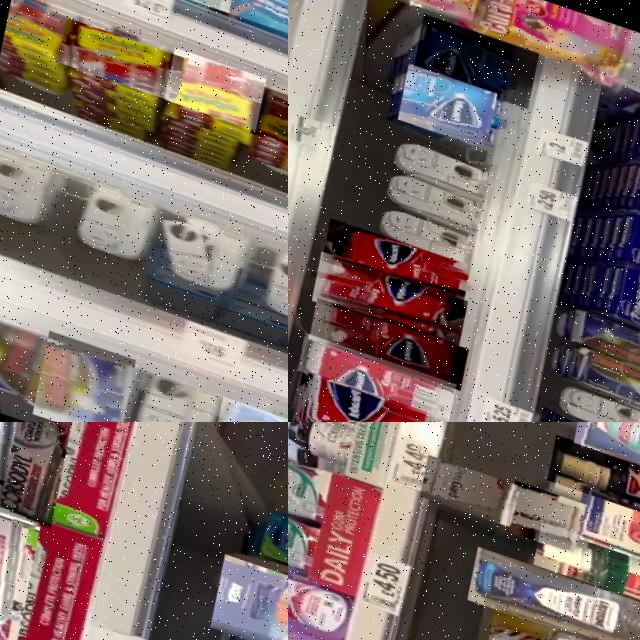Mouthwash: (460, 536, 640, 640), (478, 593, 640, 640)
Other: (305, 245, 466, 344), (303, 292, 466, 384), (291, 327, 453, 415), (316, 212, 469, 301), (409, 5, 540, 101), (527, 509, 640, 612), (288, 516, 379, 640), (53, 14, 184, 98), (22, 326, 133, 422), (541, 422, 640, 527), (288, 363, 446, 422), (393, 55, 498, 142), (159, 41, 266, 125), (203, 542, 288, 640), (288, 422, 364, 531), (288, 469, 359, 585), (567, 470, 640, 573), (415, 445, 517, 518), (500, 469, 583, 543), (288, 422, 386, 468), (568, 422, 640, 482), (244, 77, 288, 160), (204, 390, 288, 422), (617, 247, 640, 331), (620, 187, 640, 271)
Toothpaste: (0, 422, 80, 524), (0, 494, 44, 640)
